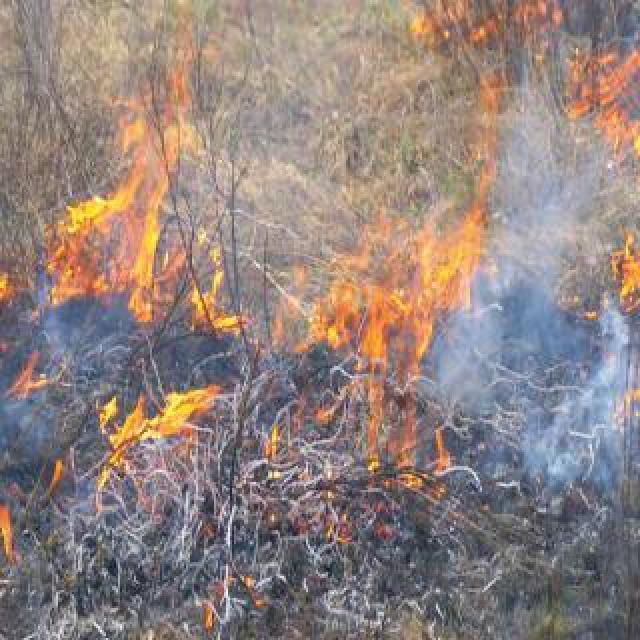Fire: (50, 60, 198, 322), (310, 236, 420, 474), (418, 104, 498, 344), (88, 360, 214, 496)
Smoke: (424, 106, 636, 470)
